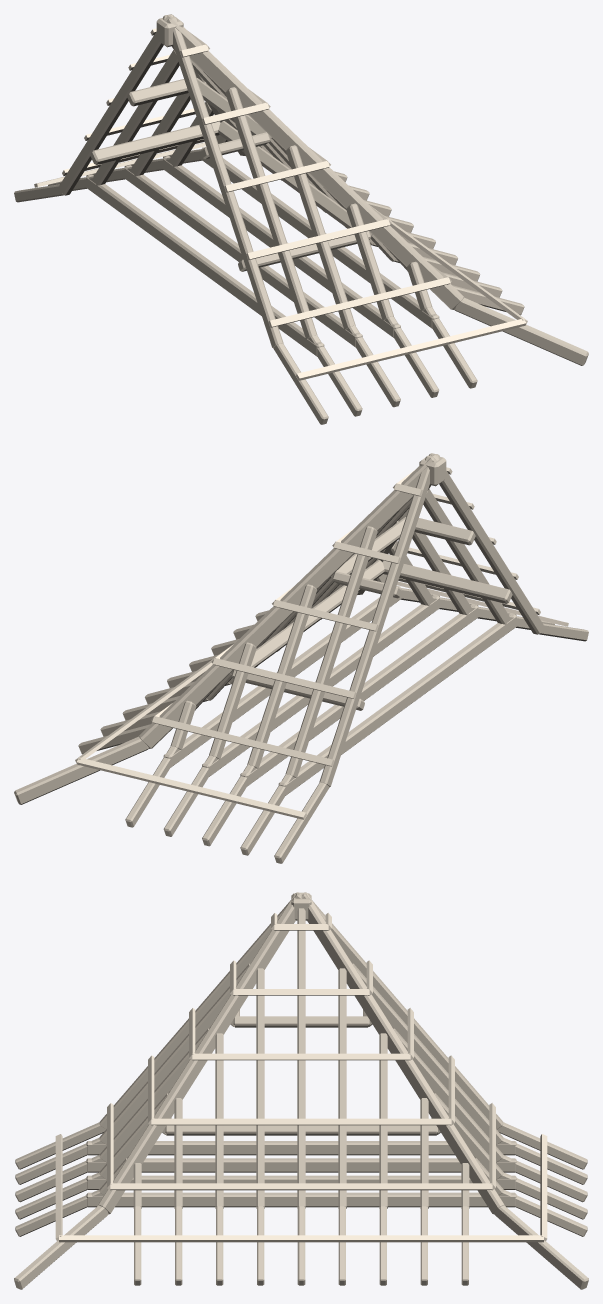
The model's file is SM_VK_Roof_Hip_Frame.fbx.
3 views of the same model, one above another, from view 1: azimuth 30°, elevation 25°; view 2: azimuth 150°, elevation 25°; view 3: azimuth 270°, elevation 25° (orthographic). The views are drawn at different scales.
Visible parts, largest first — view 1: SM_VK_Roof_Hip_Frame.001; view 2: SM_VK_Roof_Hip_Frame.001; view 3: SM_VK_Roof_Hip_Frame.001.
Part boxes in pixels (x1,y1,x2,y2): SM_VK_Roof_Hip_Frame.001: (14,14,588,424); SM_VK_Roof_Hip_Frame.001: (14,453,588,863); SM_VK_Roof_Hip_Frame.001: (14,892,588,1289).
Bounding box in the file's own units: 4.31 × 4.5 × 8.42.
